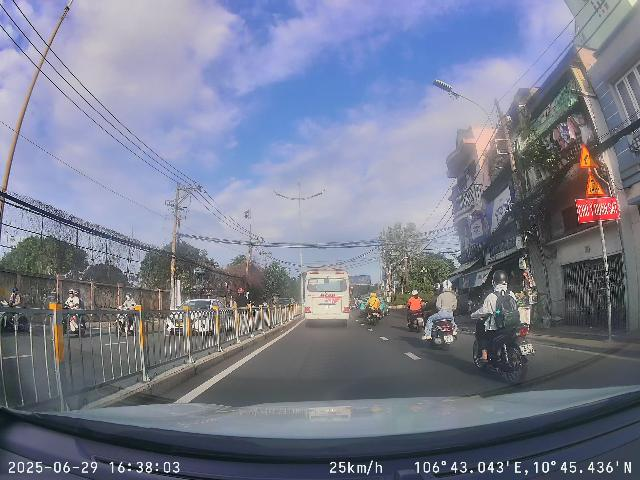201-cho-ngoat-nguy-hiem: (580, 145, 597, 169)
245-di-cham: (586, 171, 605, 196)
